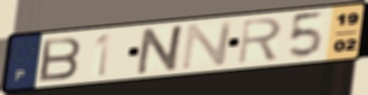1: (94, 33, 113, 76)
5: (285, 9, 329, 62)
B: (37, 35, 84, 84)
N: (179, 19, 237, 72), (133, 23, 189, 77)
R: (235, 16, 285, 66)
